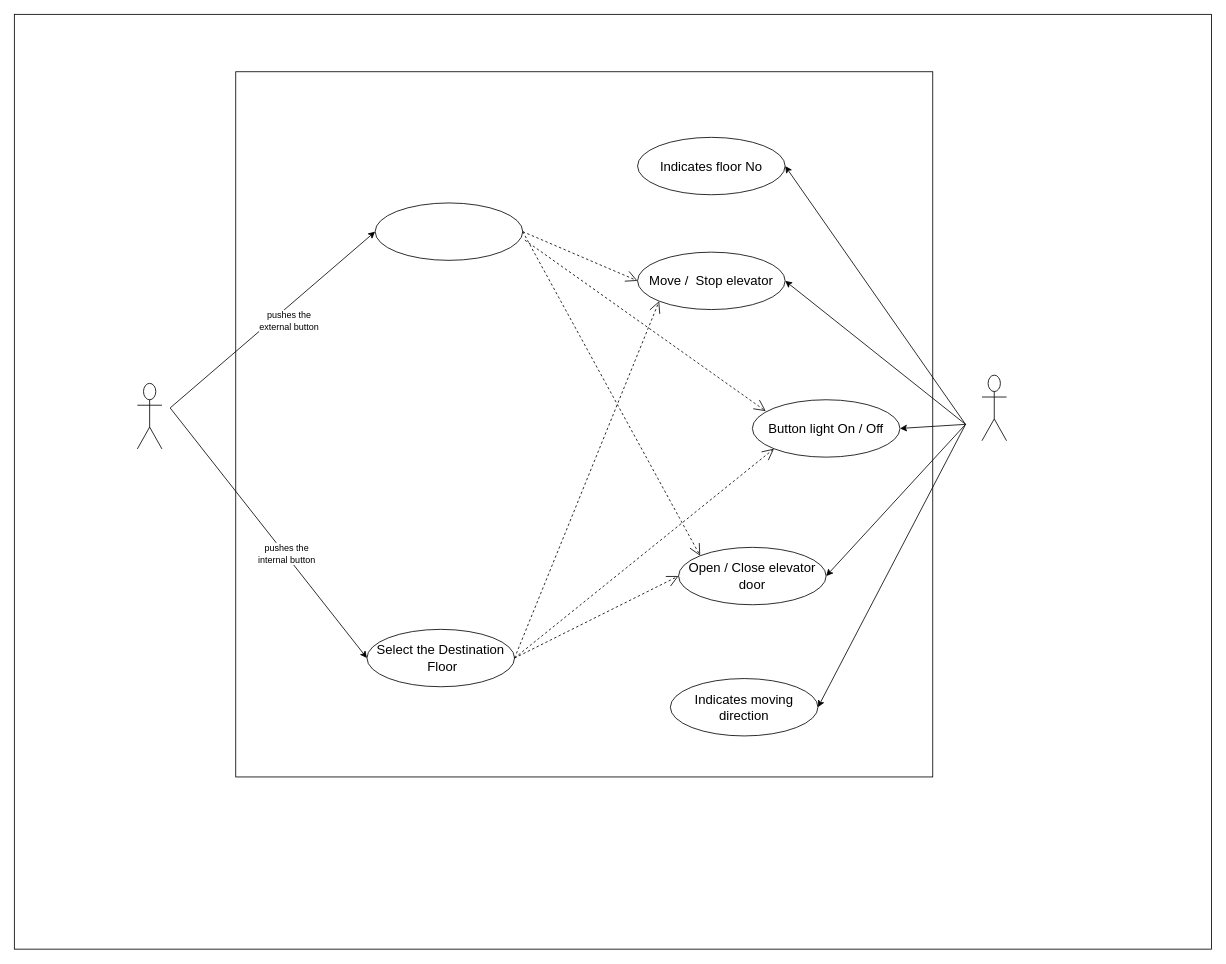
The diagram is 1226 pixels wide and 964 high, and some of its shapes have lost their labels. Each missing label, with the box of its shape:
Call the elevator: (374, 202, 523, 260)
elevator control system: (981, 374, 1007, 441)
passenger: (137, 383, 162, 449)
